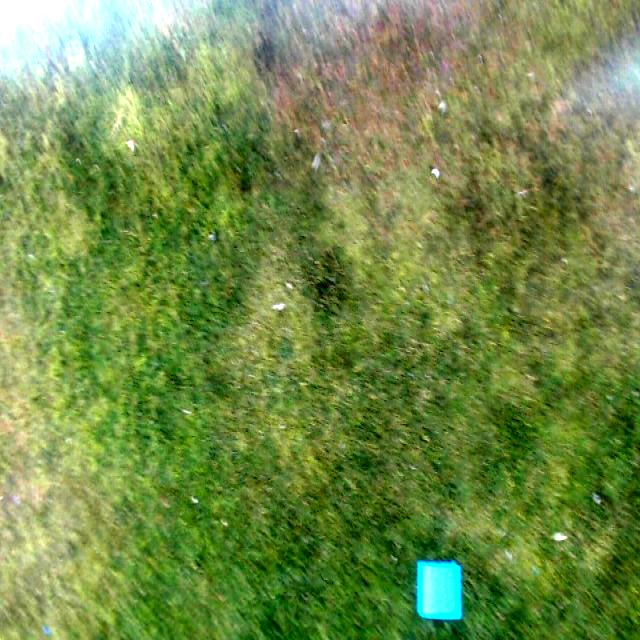blue_square: (418, 562, 462, 621)
